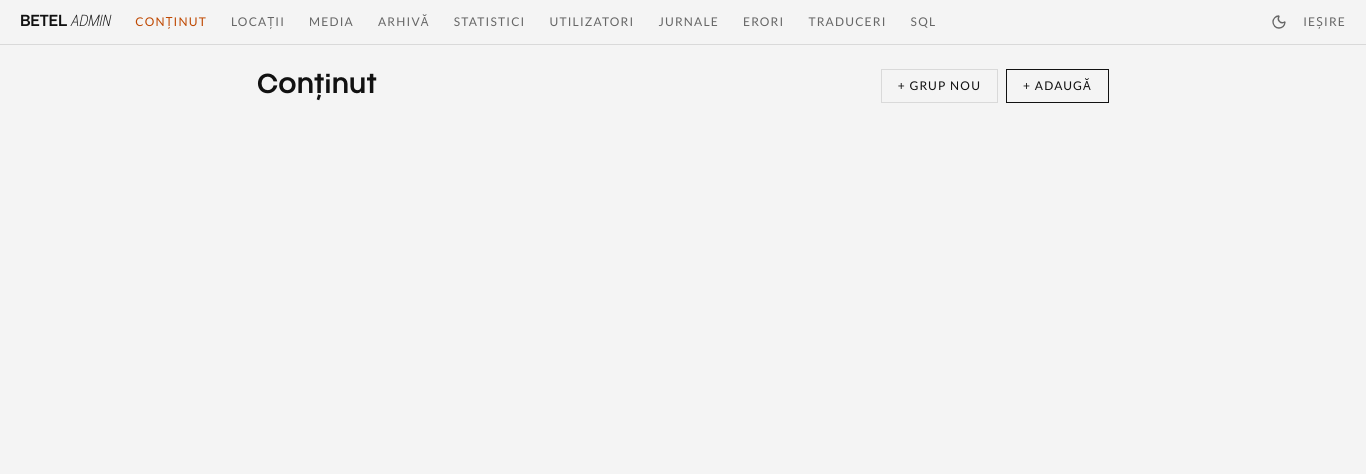
Test: Admin — users (super-admin only) › resets password for admin user and shows temp password
This screenshot has width=1366, height=474.
Click the link "Utilizatori": (593, 22) [550,14,635,30]
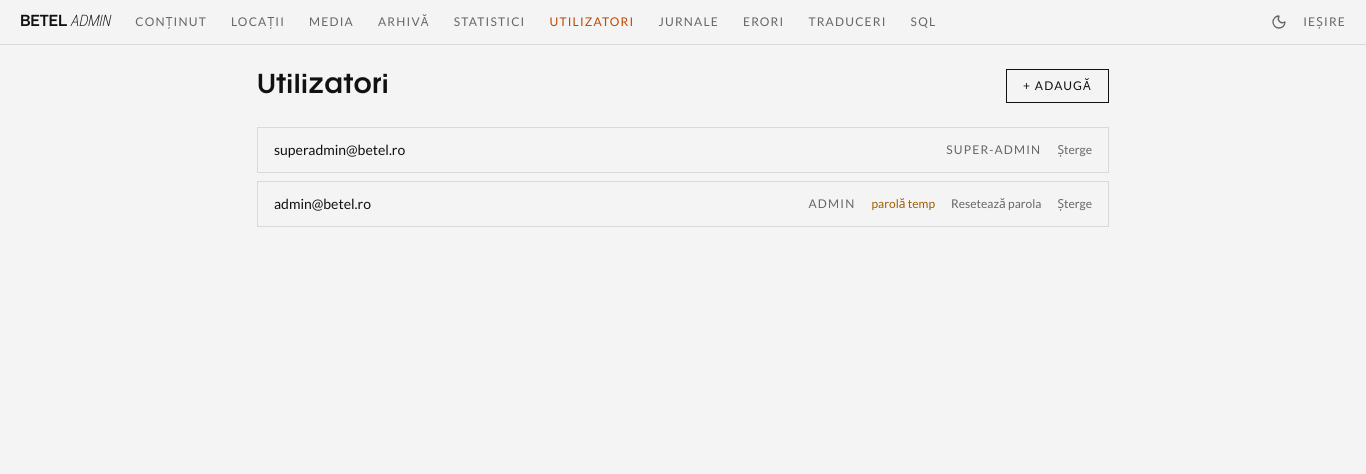
Check: the button with test id "reset-password-btn-u2" is shown
Click the button with test id "reset-password-btn-u2": (996, 204) [951,196,1041,212]
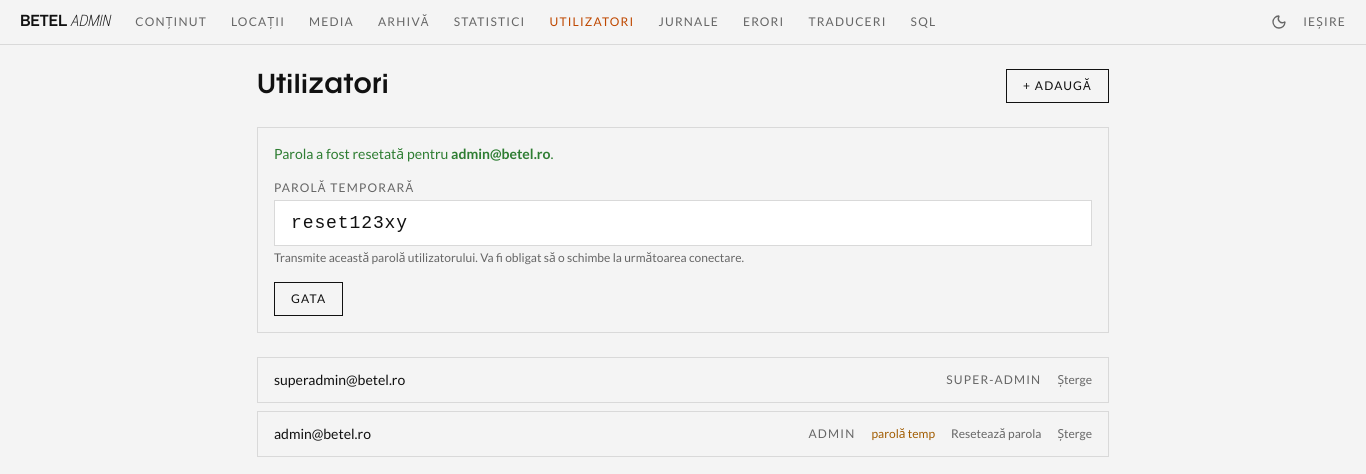
Check: the element with test id "reset-password-display" is shown, box [257,127,1109,333]
Check: the text with test id "reset-password-value" reads "reset123xy", box [291,213,408,233]
